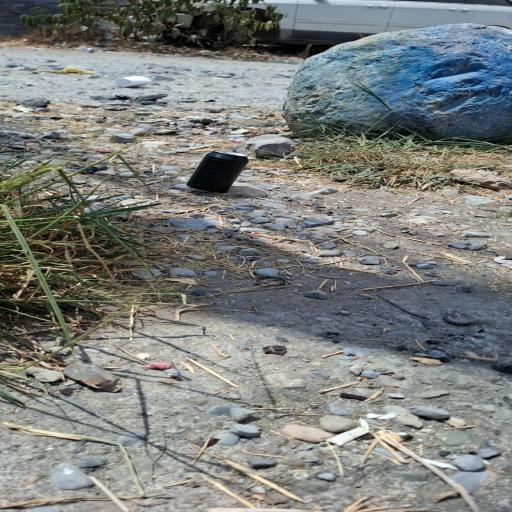LATA: (179, 141, 258, 199)
